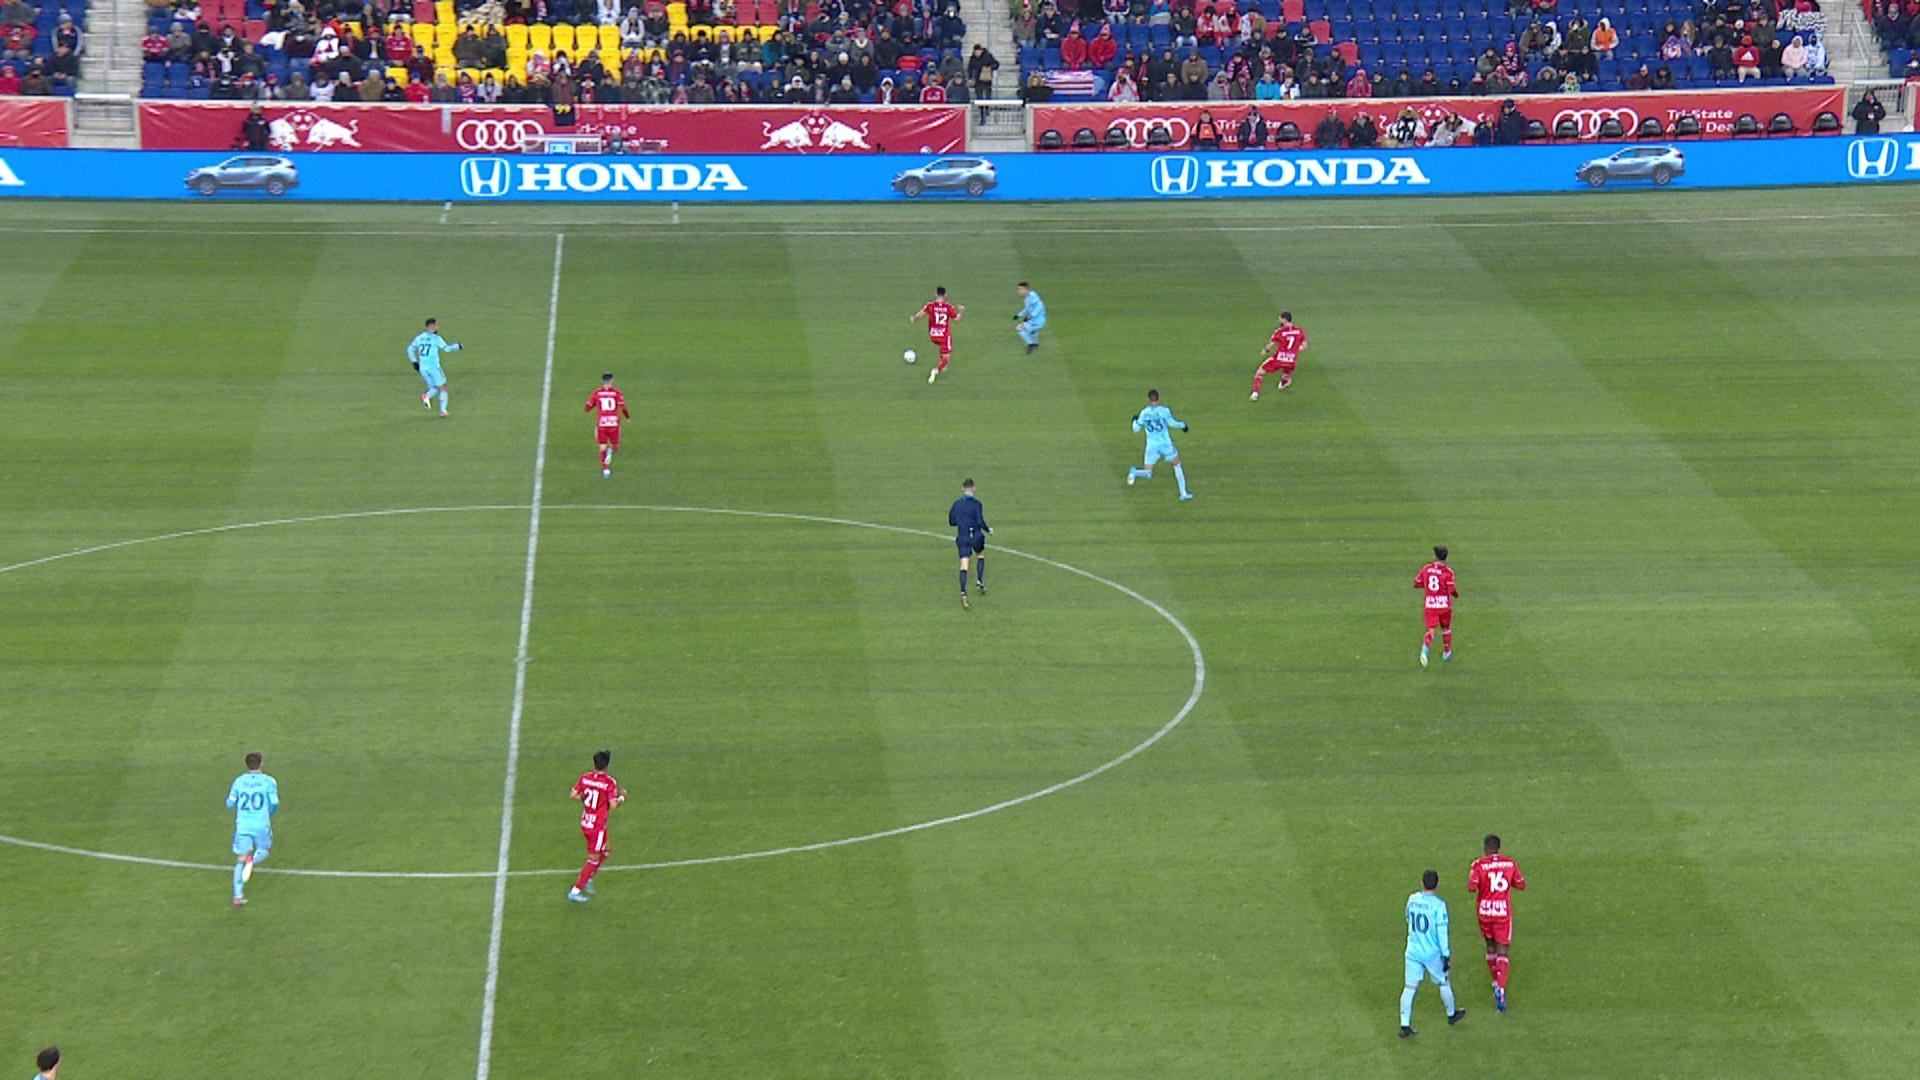football: (903, 348, 918, 365)
